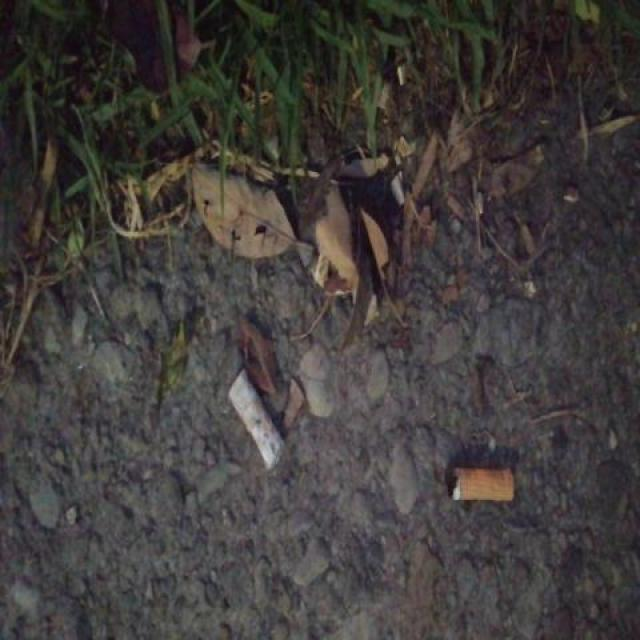non-organic waste: (225, 364, 290, 476), (442, 462, 519, 507)
